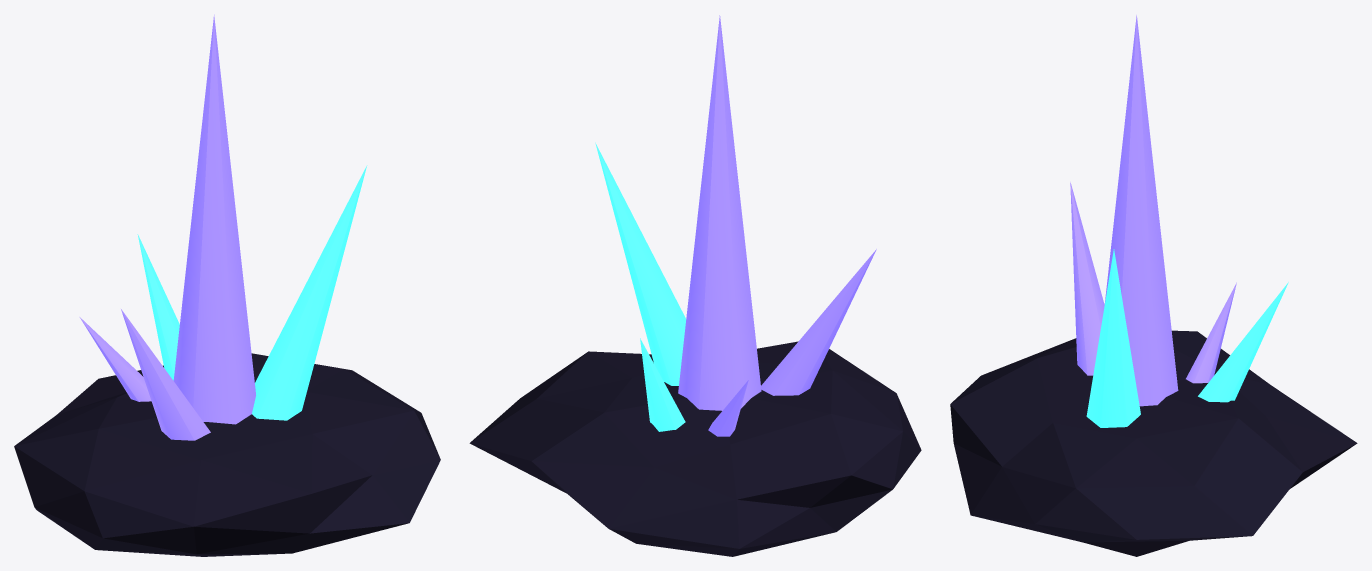
The model's file is crystal.glb.
3 renders of one model, left to right at view 1: azimuth 30°, elevation 25°; view 2: azimuth 150°, elevation 25°; view 3: azimuth 270°, elevation 25°, orthographic. The views are drawn at different scales.
Visible parts, largest first — view 1: root:dark, root:glow, root:glow2; view 2: root:dark, root:glow, root:glow2; view 3: root:dark, root:glow, root:glow2.
Boxes of the visible parts, x1,y1,x2,y2 form: root:dark: [14, 353, 440, 556]; root:glow: [79, 14, 255, 440]; root:glow2: [137, 165, 367, 420]; root:dark: [469, 341, 921, 556]; root:glow: [678, 15, 876, 436]; root:glow2: [595, 142, 686, 431]; root:dark: [950, 330, 1357, 556]; root:glow: [1070, 15, 1236, 406]; root:glow2: [1086, 249, 1288, 427].
Size of the model in its own units: 1.87 by 2.4 by 1.79.
